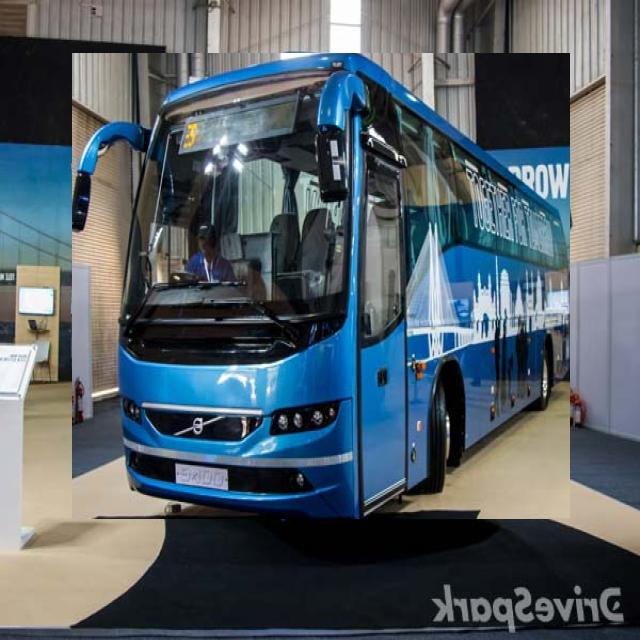bus: (72, 54, 569, 519)
